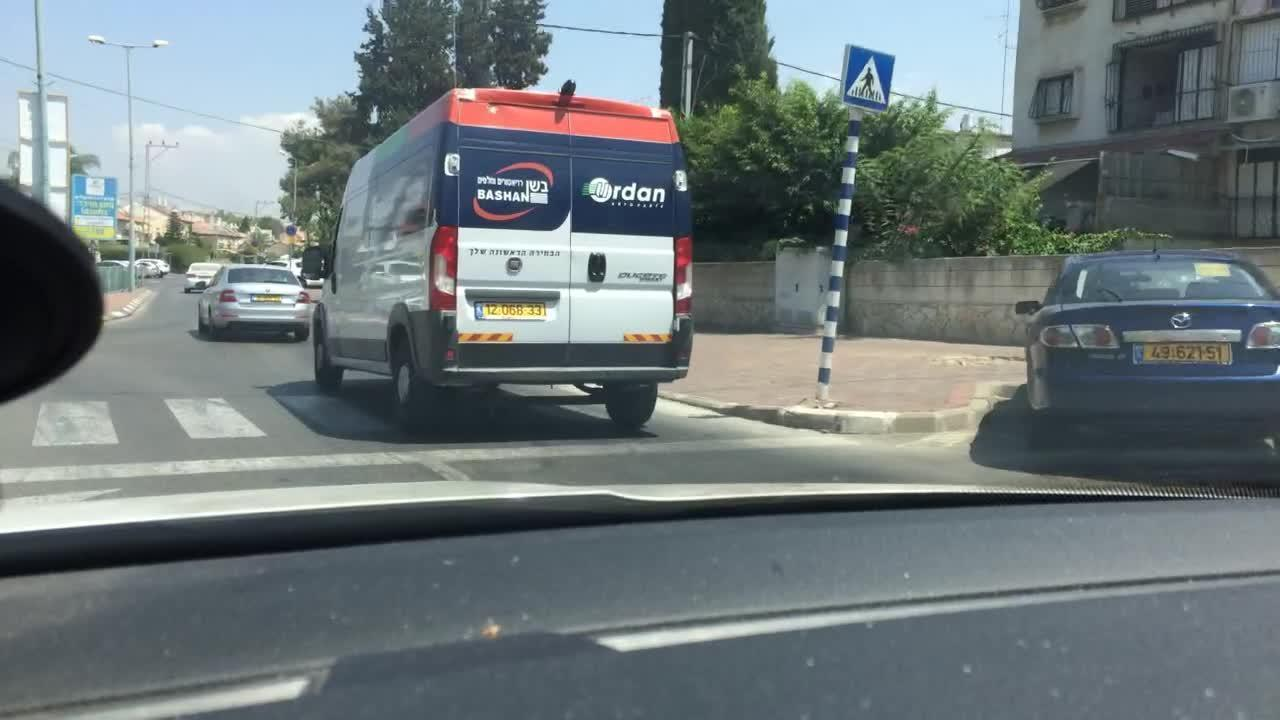Mazda: (1171, 311, 1193, 332)
